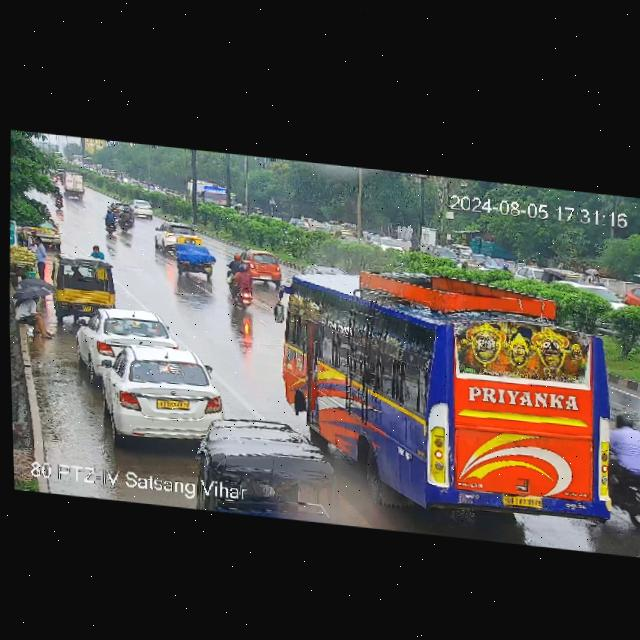bus: (276, 246, 621, 535), (185, 178, 231, 210)
car: (98, 337, 230, 450), (74, 298, 167, 374), (172, 233, 216, 277), (561, 276, 623, 303), (23, 215, 67, 249), (533, 264, 583, 290), (243, 250, 280, 285), (152, 219, 188, 252), (297, 255, 346, 278), (424, 241, 454, 265), (512, 265, 548, 281), (374, 237, 404, 256), (131, 199, 155, 216), (462, 254, 485, 267)
motorcycle: (607, 411, 640, 529), (232, 264, 253, 315), (99, 203, 119, 233), (119, 204, 133, 235), (228, 254, 240, 273)
person: (14, 289, 49, 337), (32, 231, 49, 278), (24, 276, 49, 304), (89, 243, 106, 260)
truck: (59, 171, 84, 199)
